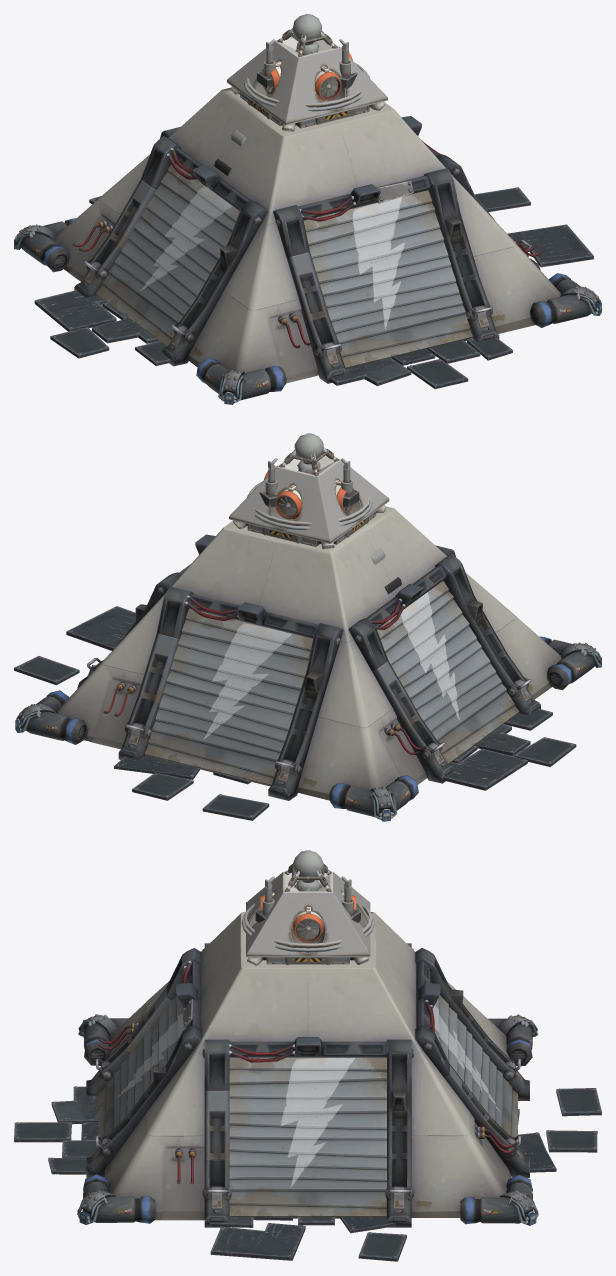
Rendered from outpost.glb.
3 views of the same model, one above another, from view 1: azimuth 30°, elevation 25°; view 2: azimuth 150°, elevation 25°; view 3: azimuth 270°, elevation 25° (orthographic). The views are drawn at different scales.
Visible parts, largest first — view 1: StormShield, AmplifierFloor, StormShieldTop, Amplifier; view 2: StormShield, AmplifierFloor, StormShieldTop, Amplifier; view 3: StormShield, AmplifierFloor, StormShieldTop, Amplifier.
Part boxes in pixels (box(x1,y1,x2,y2)): StormShield: box(14, 87, 601, 404); AmplifierFloor: box(34, 187, 593, 389); StormShieldTop: box(227, 28, 387, 131); Amplifier: box(214, 14, 369, 175); StormShield: box(15, 506, 601, 821); AmplifierFloor: box(14, 606, 576, 820); StormShieldTop: box(229, 447, 389, 549); Amplifier: box(247, 433, 401, 594); StormShield: box(77, 911, 538, 1227); AmplifierFloor: box(14, 1086, 601, 1261); StormShieldTop: box(246, 864, 370, 965); Amplifier: box(241, 850, 374, 953).
Bounding box in the file's own units: 2.94 × 1.51 × 2.84.
Materials: 7 (7 with a texture image).
